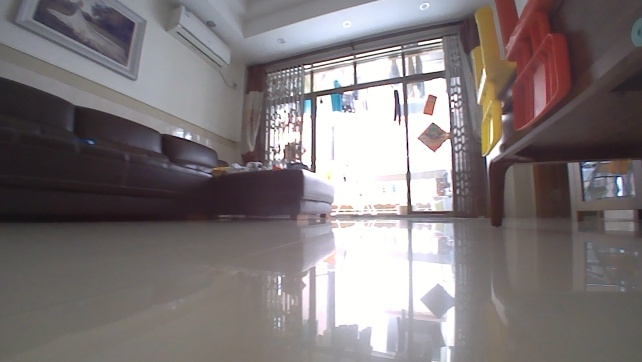sofa: (0, 72, 336, 221)
tea_table1: (475, 0, 641, 229)
